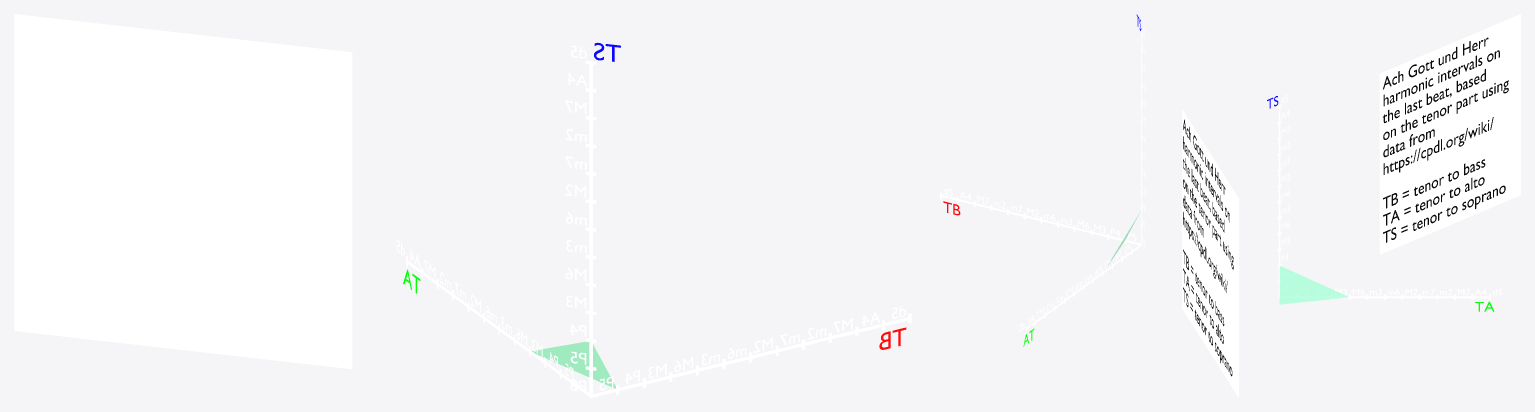
Rendered from tenorFinalChart.glb.
The picture shows the model from 3 angles, left to right: view 1: azimuth 30°, elevation 25°; view 2: azimuth 150°, elevation 25°; view 3: azimuth 270°, elevation 25°; orthographic projection. The views are drawn at different scales.
Visible parts, largest first — view 1: textBox, z_axis, x_axis, intervals, y_axis; view 2: textBox, text, x_axis, y_axis, z_axis; view 3: textBox, text, intervals, y_axis, z_axis.
Part boxes in pixels (x1=…): textBox: x1=14, y1=14, x2=352, y2=369; z_axis: x1=585, y1=60, x2=596, y2=396; x_axis: x1=591, y1=313, x2=911, y2=397; intervals: x1=532, y1=341, x2=615, y2=388; y_axis: x1=406, y1=256, x2=590, y2=397; textBox: x1=1182, y1=109, x2=1238, y2=397; text: x1=1183, y1=119, x2=1233, y2=376; x_axis: x1=940, y1=192, x2=1141, y2=244; y_axis: x1=1025, y1=244, x2=1141, y2=332; z_axis: x1=1140, y1=32, x2=1142, y2=244; textBox: x1=1379, y1=14, x2=1520, y2=254; text: x1=1383, y1=37, x2=1508, y2=242; intervals: x1=1279, y1=266, x2=1348, y2=304; y_axis: x1=1280, y1=294, x2=1490, y2=299; z_axis: x1=1277, y1=105, x2=1281, y2=297.
Size of the model in its own units: 2.15 by 1.14 by 1.21.
